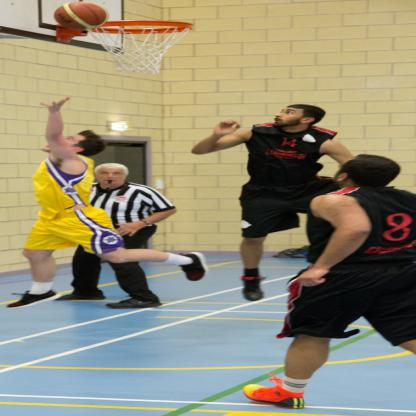Ball: (52, 0, 106, 29)
